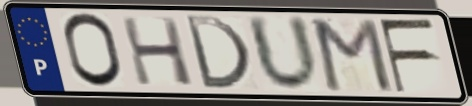D: (181, 13, 254, 92)
F: (376, 17, 439, 96)
H: (117, 15, 197, 87)
M: (311, 17, 397, 95)
O: (60, 11, 127, 91)
U: (242, 13, 324, 95)
